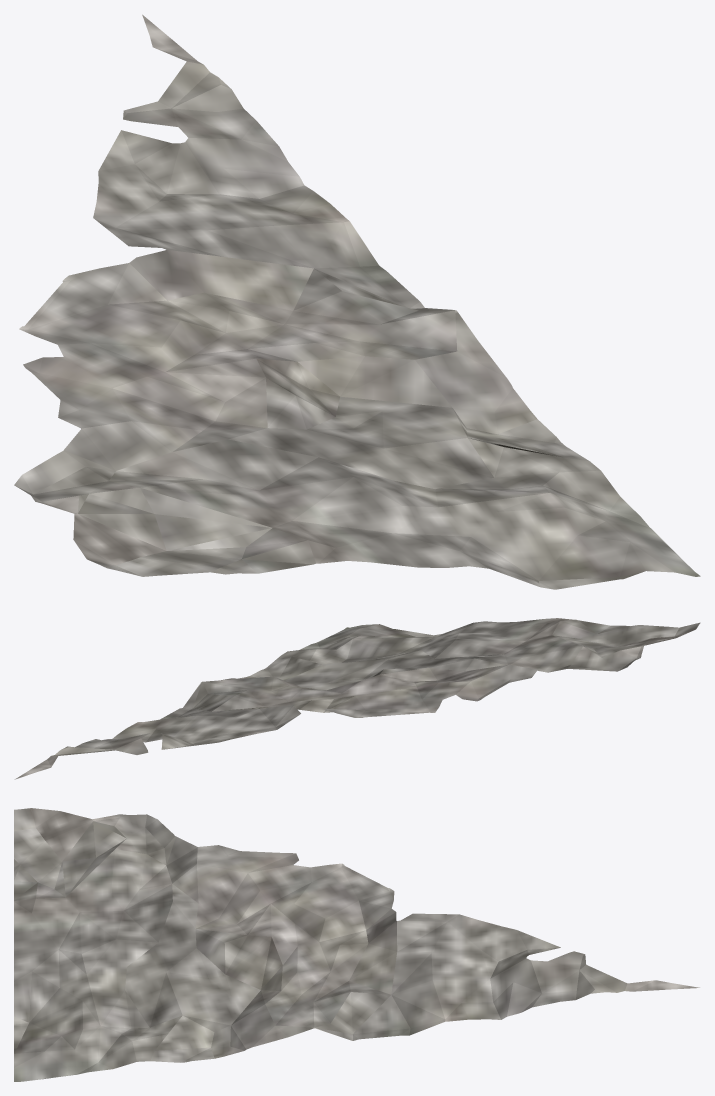
The picture shows the model from 3 angles, top to bottom: view 1: azimuth 30°, elevation 25°; view 2: azimuth 150°, elevation 25°; view 3: azimuth 270°, elevation 25°; orthographic projection. The views are drawn at different scales.
Bounding box in the file's own units: 0.2653 × 0.0646 × 0.4281.
1 material, 1 textured.
